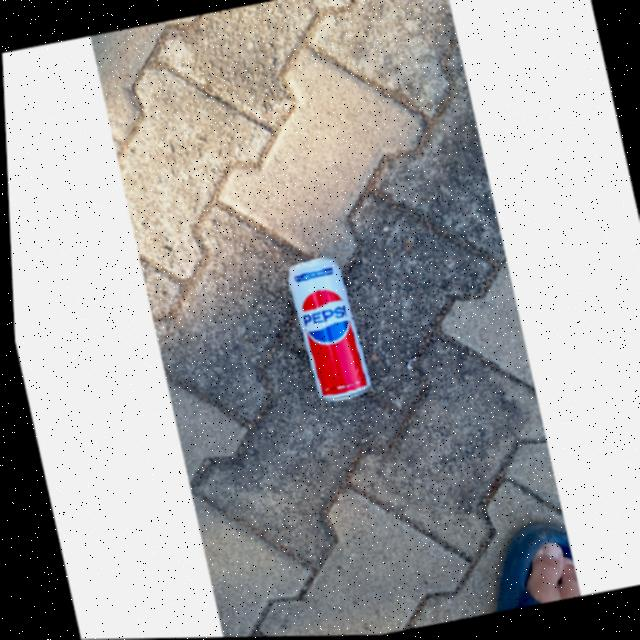Pepsi Retro: (278, 251, 369, 405)
